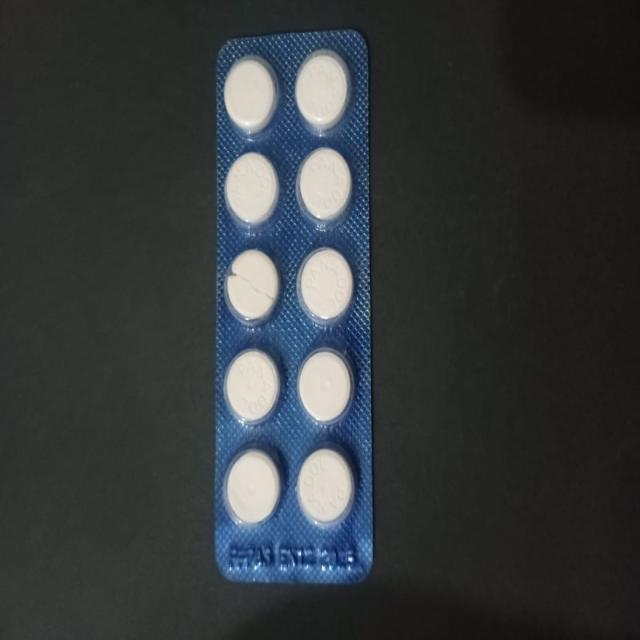defect: (221, 246, 285, 329)
